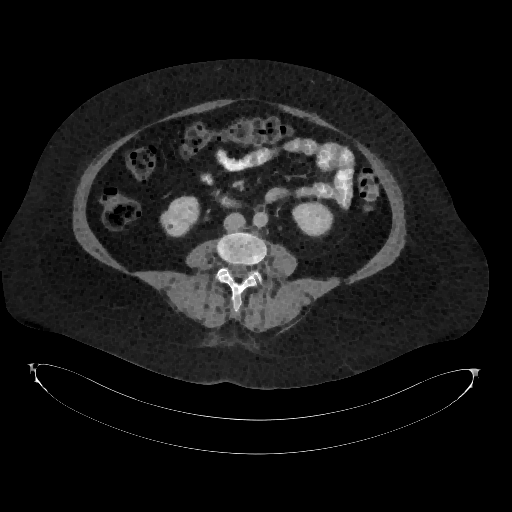Lesion: (167, 221, 176, 232)
